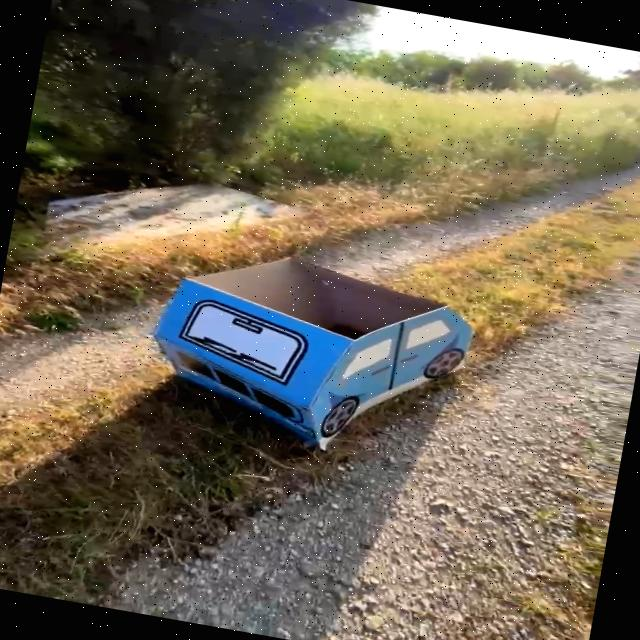blue_car: (72, 212, 537, 495)
